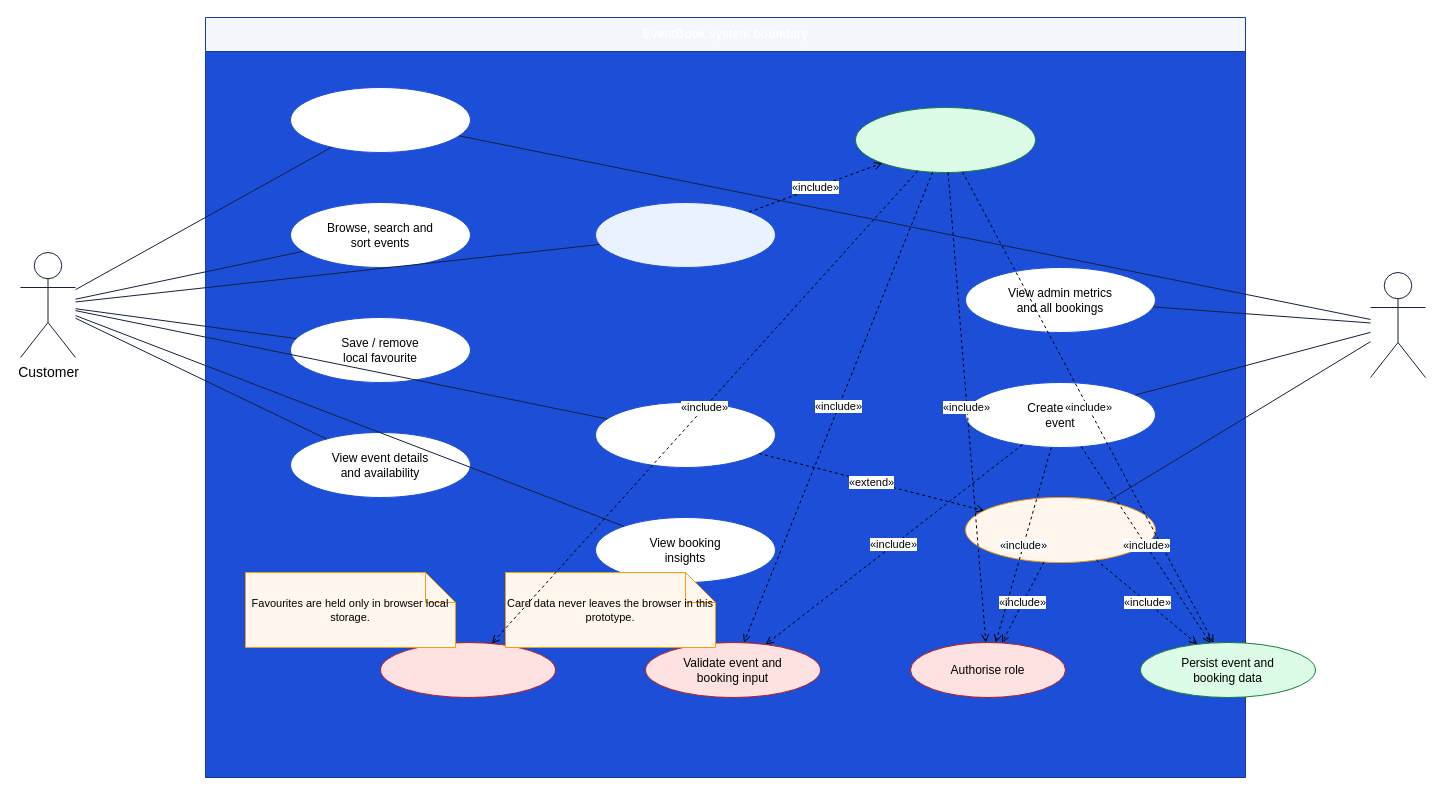
The diagram is 1456 pixels wide and 795 high, and some of its shapes have lost their labels. The box of each missing label's shape, as (x1, y1, x2, y2) in pixels:
Administrator: (1370, 272, 1426, 378)
Authenticate with demo account: (290, 86, 470, 152)
Cancel eligible booking: (964, 496, 1156, 562)
Complete simulated checkout: (594, 202, 776, 268)
Create confirmed booking: (854, 106, 1036, 172)
Validate remaining capacity: (380, 642, 556, 698)
View / cancel own booking: (594, 402, 776, 468)
